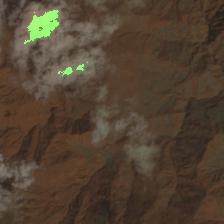landslides: (13, 199, 34, 204)
